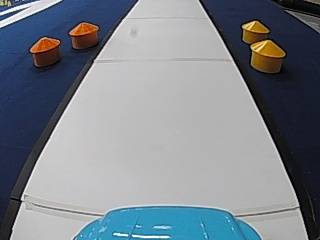granary: (247, 38, 286, 72), (28, 33, 60, 67), (67, 20, 98, 49), (239, 18, 270, 43)
